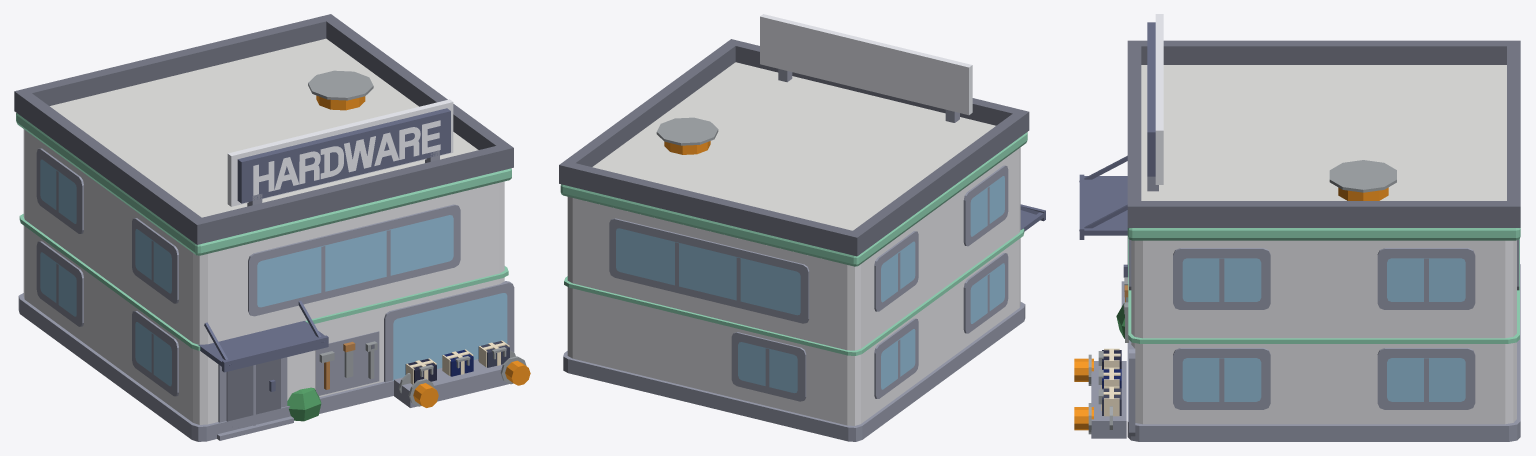
File: shop-equipment-1x1-t2-tone-a.glb
3 renders of one model, left to right at view 1: azimuth 30°, elevation 25°; view 2: azimuth 150°, elevation 25°; view 3: azimuth 270°, elevation 25°, orthographic. The views are drawn at different scales.
Parts seen in each view (by area): view 1: shop-equipment-1x1-t2-tone-a; view 2: shop-equipment-1x1-t2-tone-a; view 3: shop-equipment-1x1-t2-tone-a.
Part boxes in pixels (x1,y1,x2,y2): shop-equipment-1x1-t2-tone-a: [14, 14, 530, 441]; shop-equipment-1x1-t2-tone-a: [559, 14, 1045, 441]; shop-equipment-1x1-t2-tone-a: [1074, 14, 1520, 441].
Size of the model in its own units: 1.01 by 0.804 by 1.14.
Materials: 1 (1 with a texture image).
